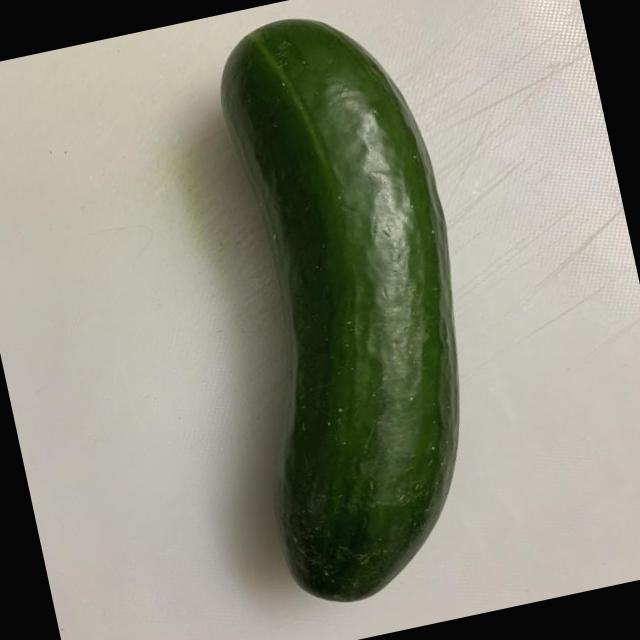Cucumber: (174, 0, 516, 618)
